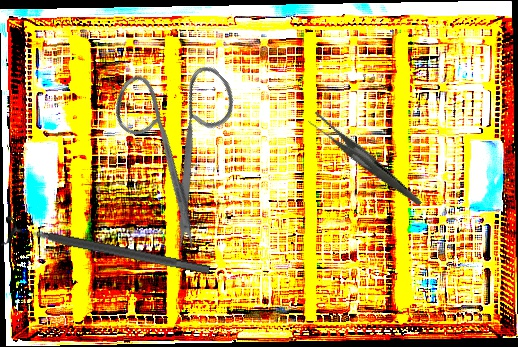Dressing Forceps: (306, 90, 422, 231)
Fixation Ring: (0, 213, 213, 287)
Iris Scissors: (71, 31, 297, 257)
